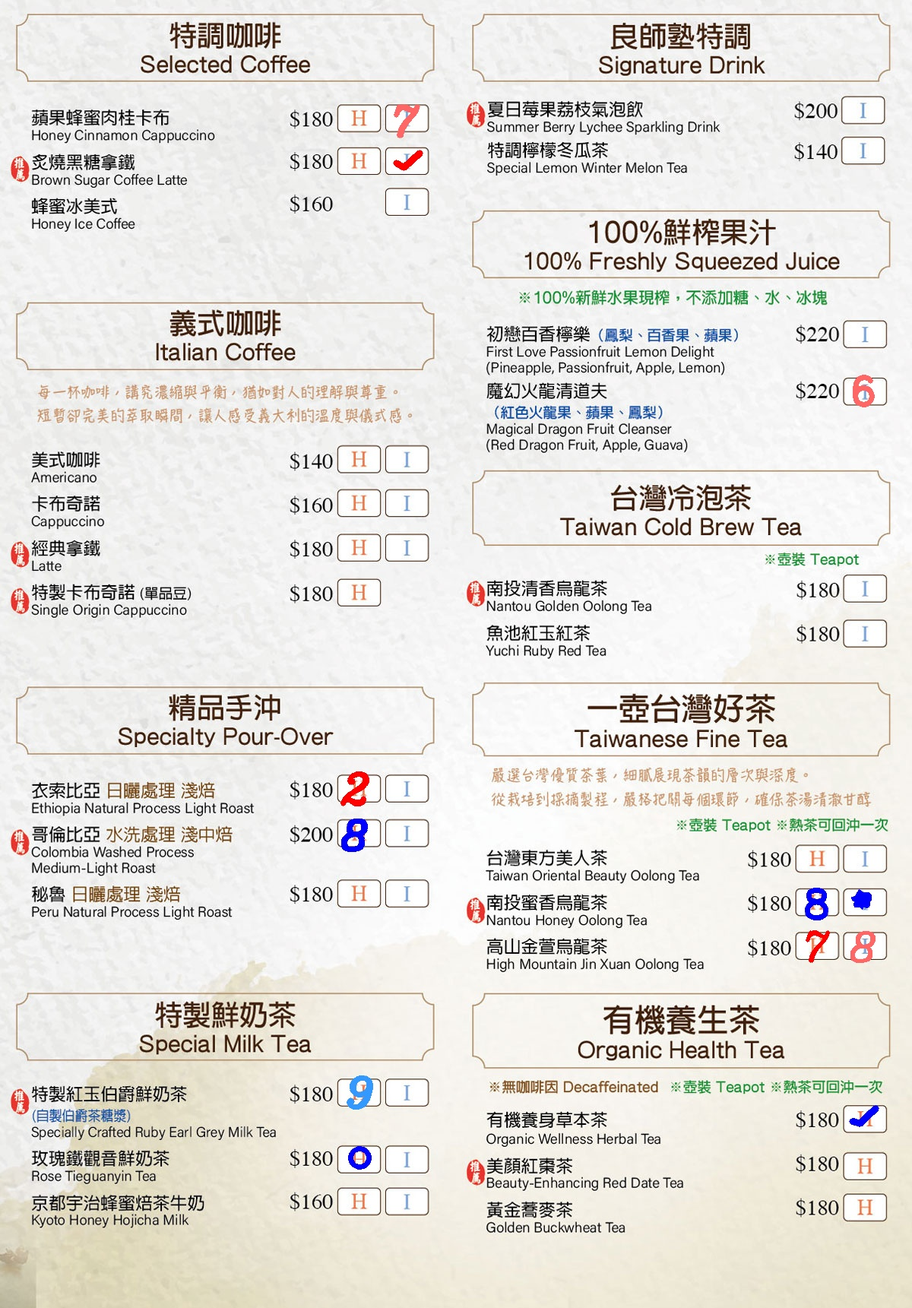marked_circle: (844, 890, 883, 914)
marked_hollow: (340, 1146, 379, 1170)
marked_number_2: (339, 776, 378, 800)
marked_number_6: (845, 378, 884, 402)
marked_number_7: (388, 107, 427, 131), (798, 933, 837, 956)
marked_number_8: (844, 934, 883, 958), (799, 892, 838, 915), (339, 822, 378, 845)
marked_number_9: (342, 1080, 381, 1104)
marked_tick: (389, 149, 428, 173), (846, 1106, 885, 1129)
